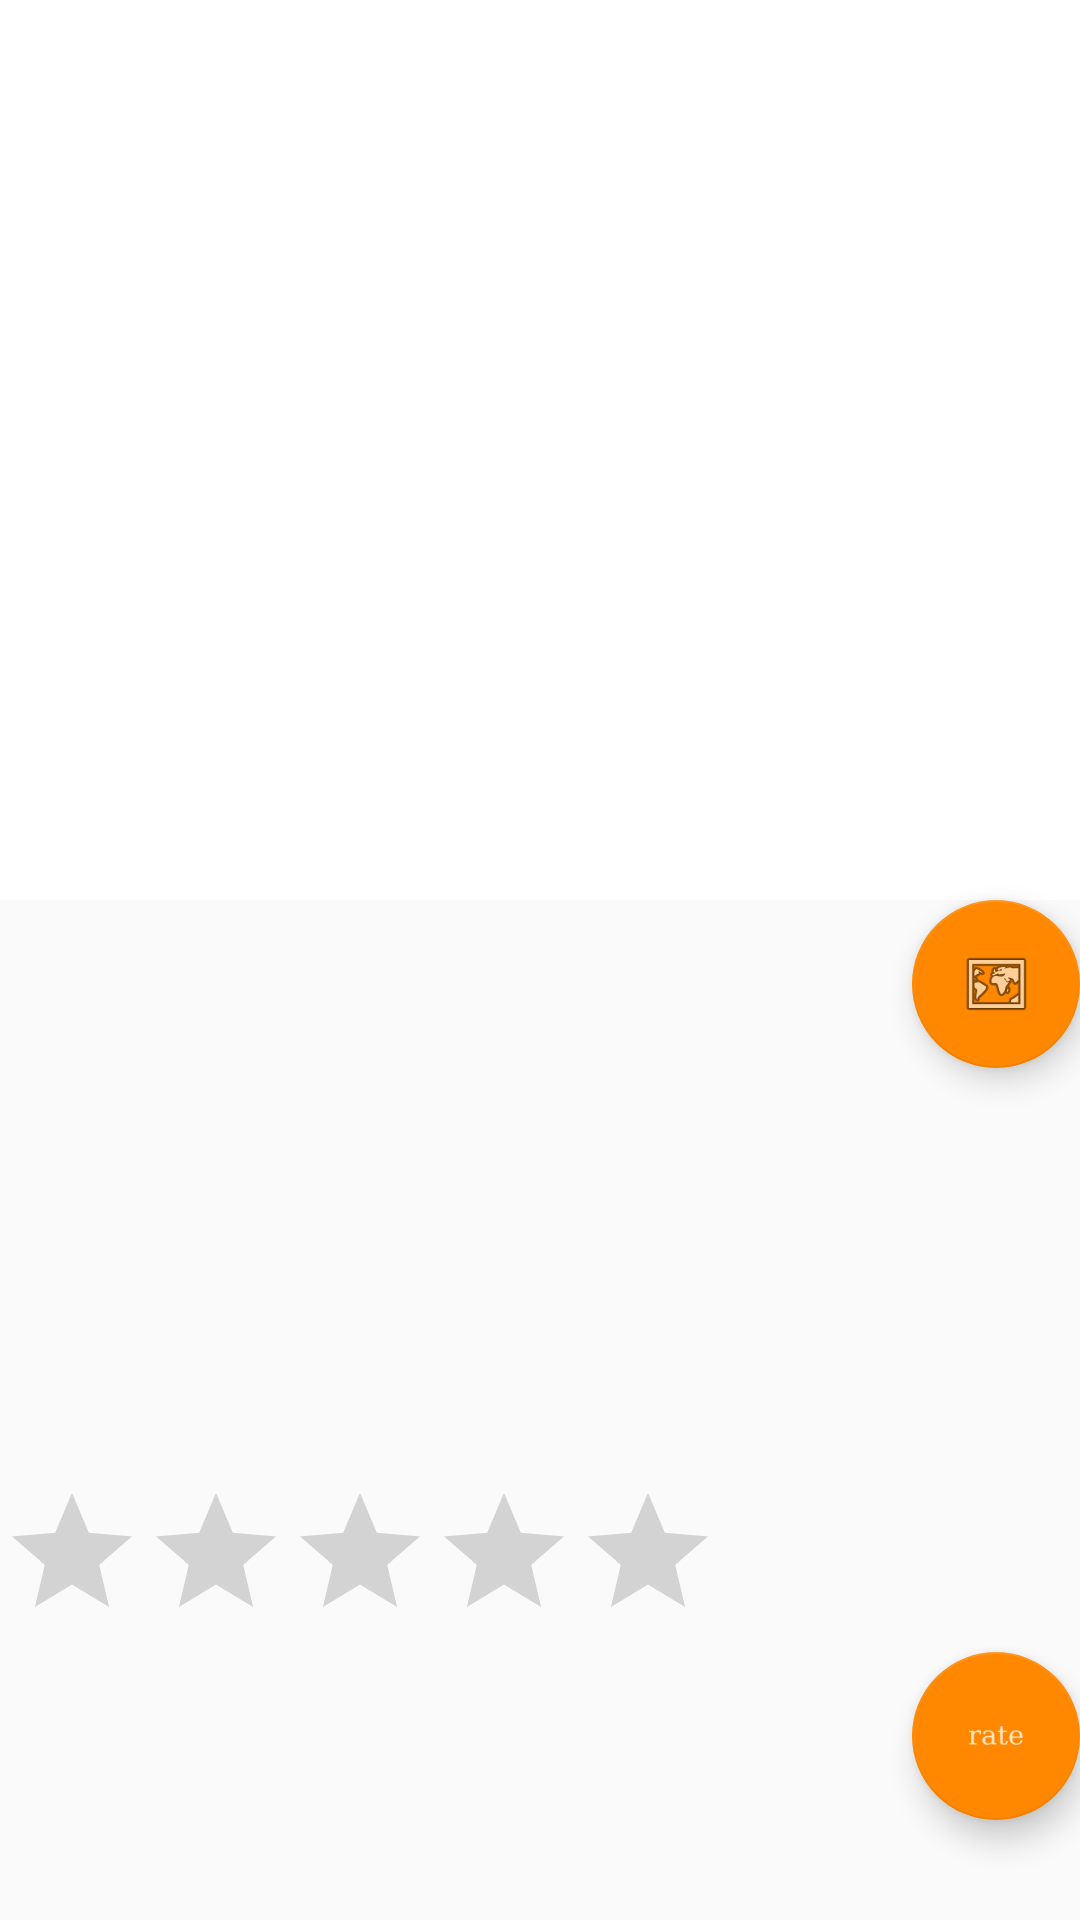

Named icons in this screenshot (1080*1920) and their bounding boxes, rect(x1, y1, x2, y2):
mapmode: rect(912, 900, 1080, 1068)
